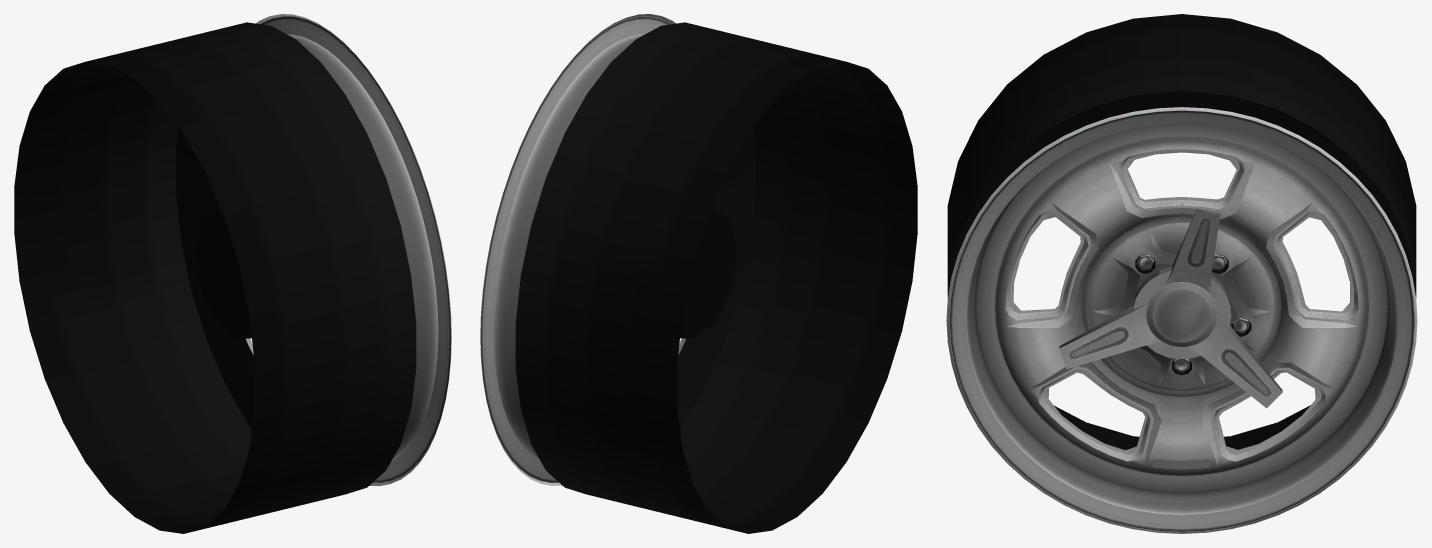
Rendered from wheel45.fbx.
3 renders of one model, left to right at view 1: azimuth 30°, elevation 25°; view 2: azimuth 150°, elevation 25°; view 3: azimuth 270°, elevation 25°, orthographic. The views are drawn at different scales.
Visible parts, largest first — view 1: hal_sprintii_wheel_wheel_inner_rim_, wheel_rim; view 2: hal_sprintii_wheel_wheel_inner_rim_, wheel_rim; view 3: hal_sprintii_wheel_wheel_chrome_rim_, wheel_rim, hal_sprintii_wheel_wheel_inner_rim_.
Part boxes in pixels (<box>): hal_sprintii_wheel_wheel_inner_rim_: <box>14,22,416,533</box>; wheel_rim: <box>248,14,451,486</box>; hal_sprintii_wheel_wheel_inner_rim_: <box>515,22,917,533</box>; wheel_rim: <box>480,14,683,486</box>; hal_sprintii_wheel_wheel_chrome_rim_: <box>956,137,1368,487</box>; wheel_rim: <box>946,107,1417,533</box>; hal_sprintii_wheel_wheel_inner_rim_: <box>947,14,1416,450</box>.
Size of the model in its own units: 0.2337 by 0.48 by 0.4801.
1 material, 1 textured.
